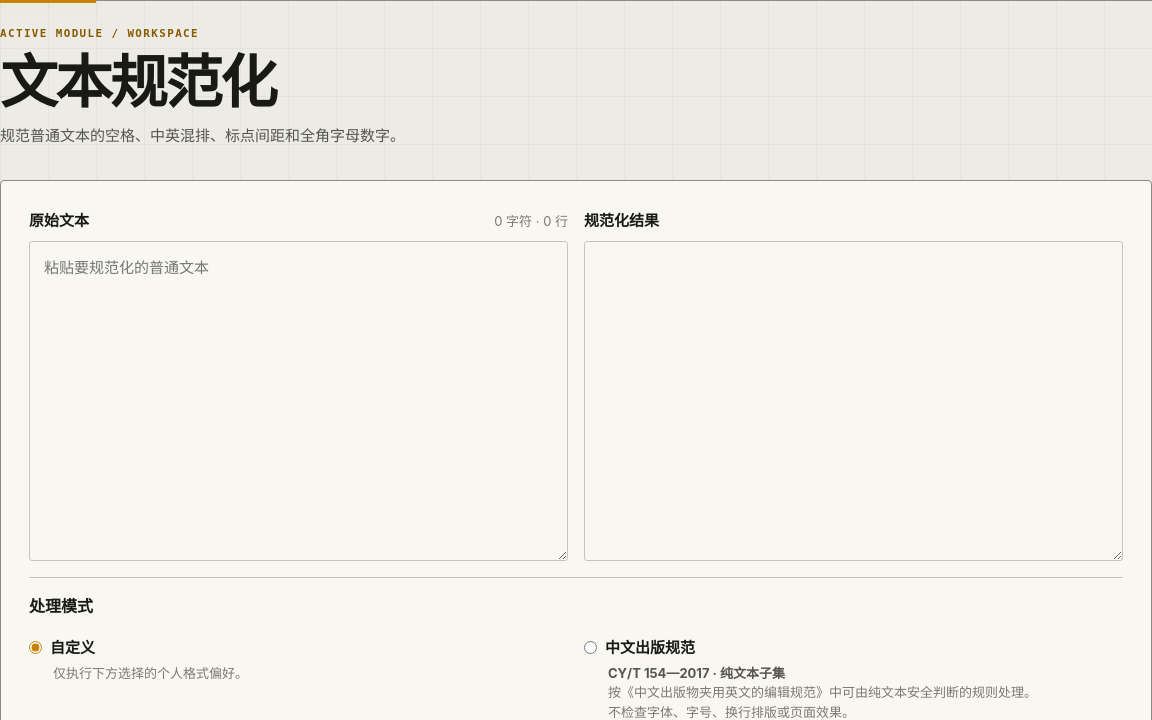
TextNormalizerView › runs the standard with personal options off and composes personal spacing afterward
In the text box with id "normalizer-source-text": coordinates (298, 401) [29,241,568,561], type "中文Python ，版本２０２６."
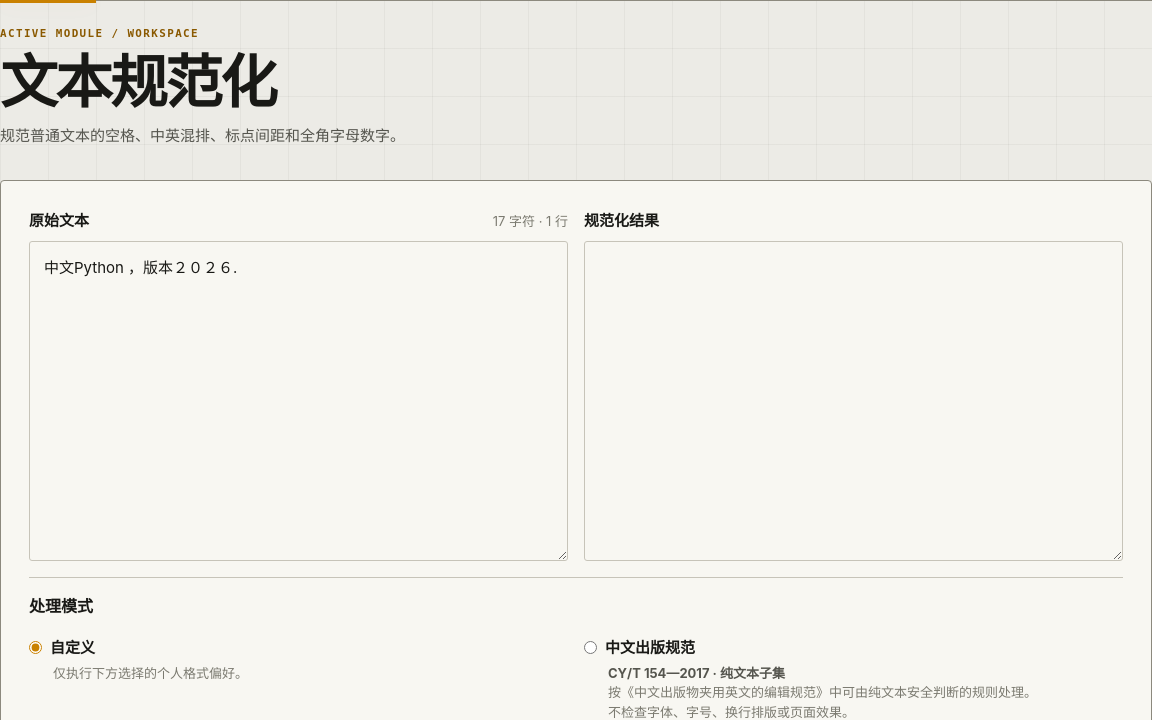
Click the 2nd radio button: coordinates (590, 648) [584,641,597,654]
(page scrolled)
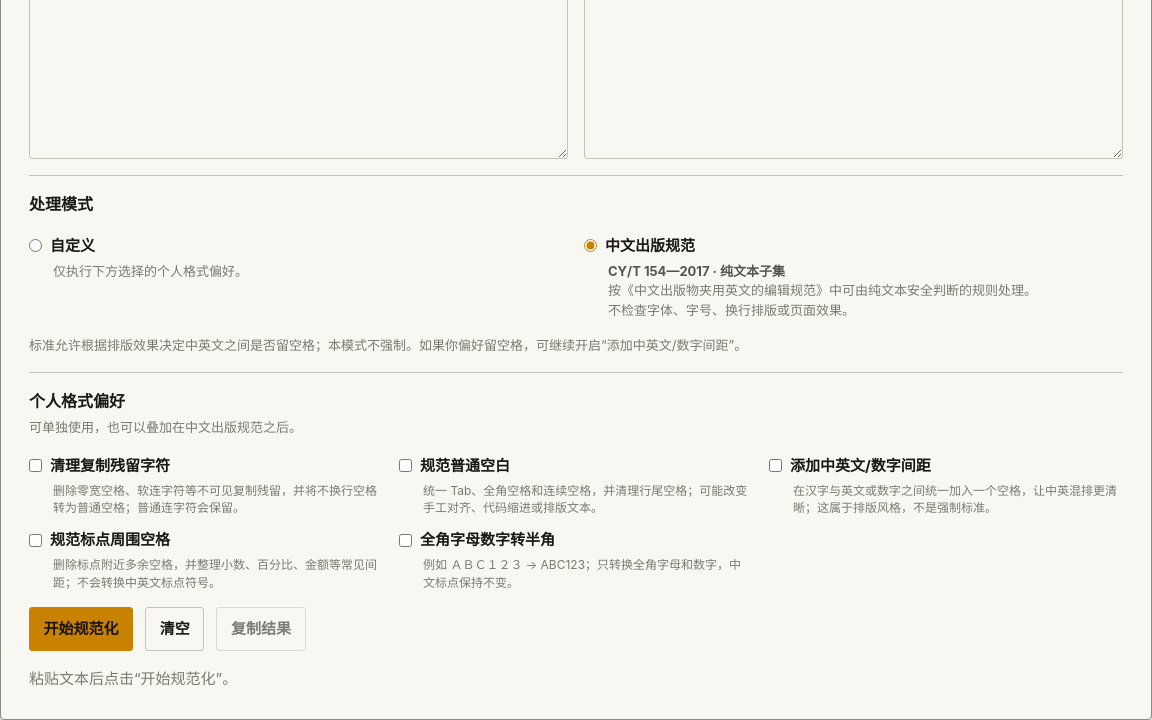
Click the button "开始规范化": coordinates (81, 629) [29,607,133,651]
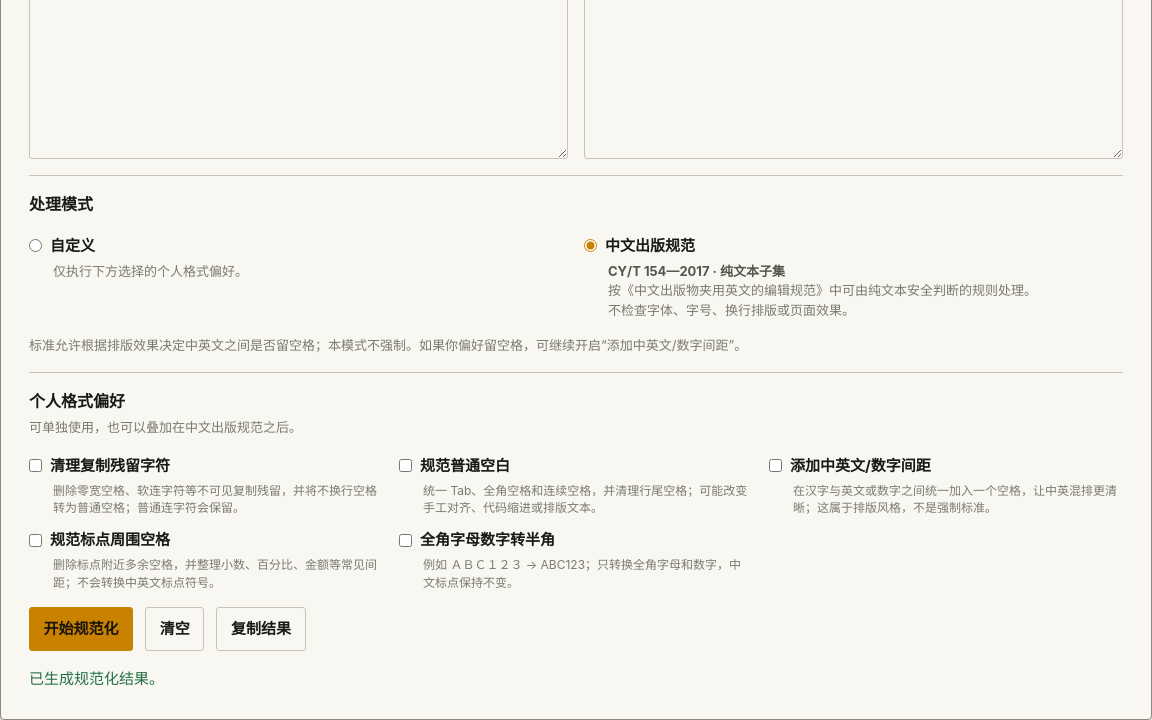
Click the checkbox labelled "添加中英文/数字间距": coordinates (776, 466) [769,459,782,472]
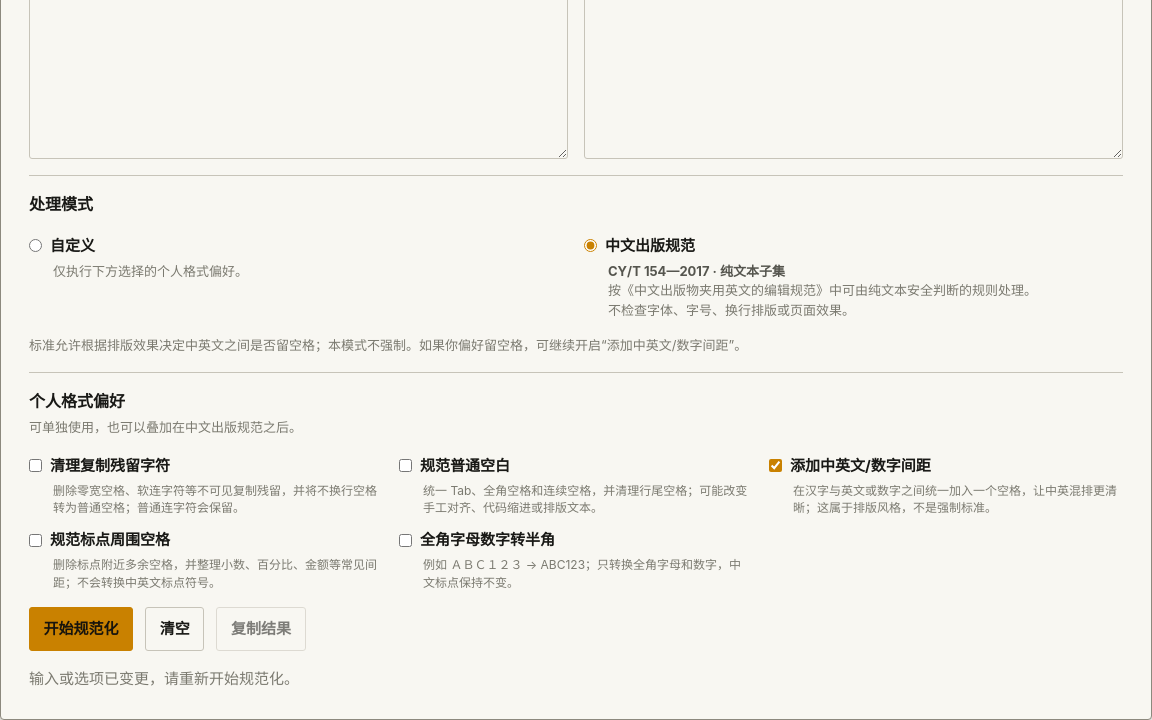
Click the button "开始规范化": coordinates (81, 629) [29,607,133,651]
(page scrolled)
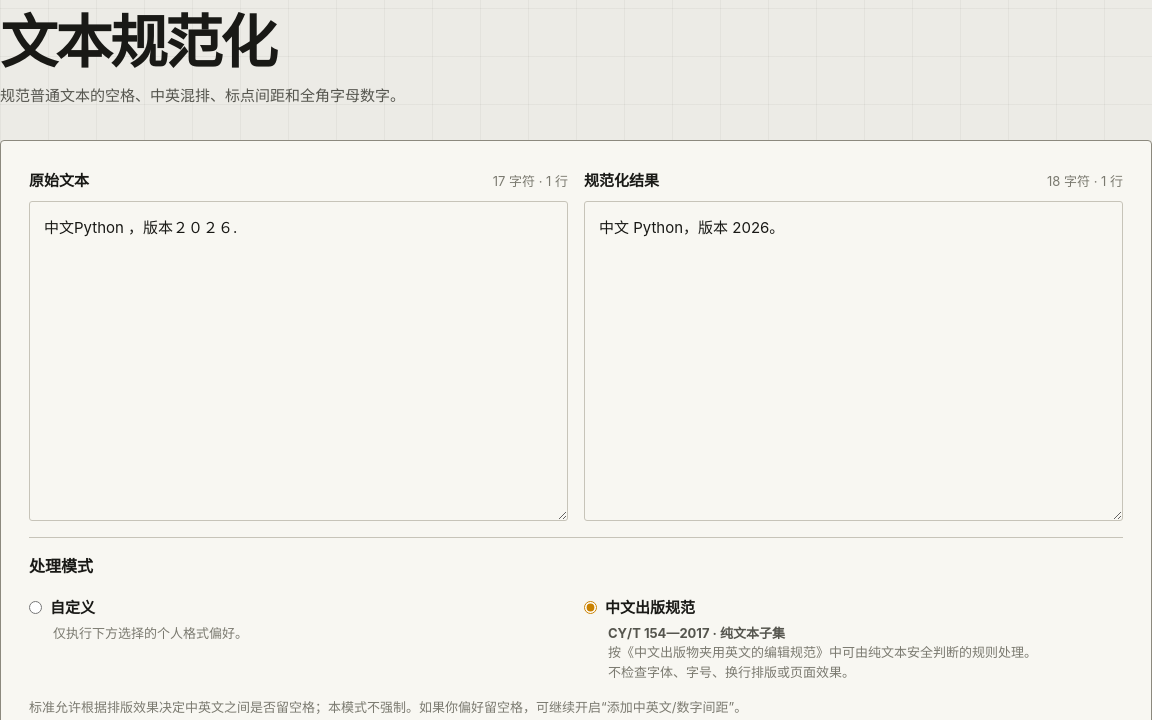
Check: the text box with id "normalized-text" holds "中文 Python，版本 2026。", box [584,201,1123,521]
